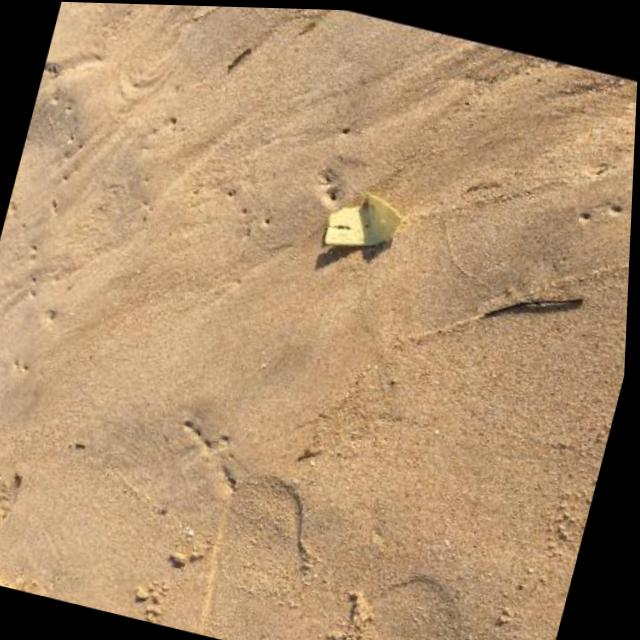foam: (322, 183, 407, 259)
